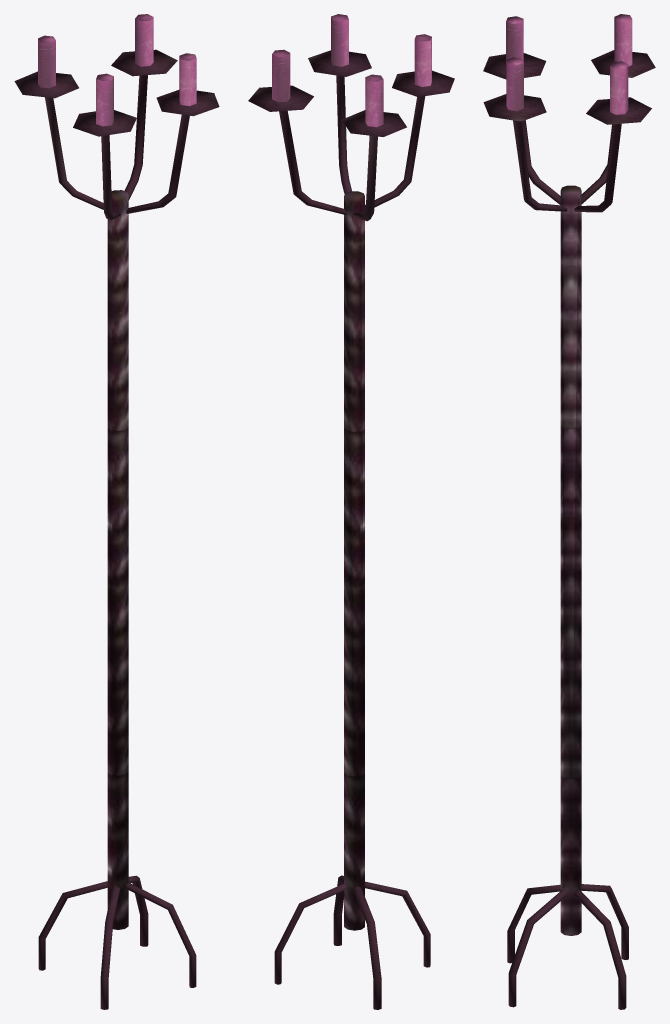
Rendered from candlestick.FBX.
The picture shows the model from 3 angles, left to right: view 1: azimuth 30°, elevation 25°; view 2: azimuth 150°, elevation 25°; view 3: azimuth 270°, elevation 25°; orthographic projection.
Parts seen in each view (by area): view 1: Plane003; view 2: Plane003; view 3: Plane003.
Boxes of the visible parts, x1=… form: Plane003: x1=14, y1=14, x2=219, y2=1009; Plane003: x1=248, y1=14, x2=454, y2=1009; Plane003: x1=483, y1=14, x2=655, y2=1009.
Bounding box in the file's own units: 26.94 × 158 × 26.19.
